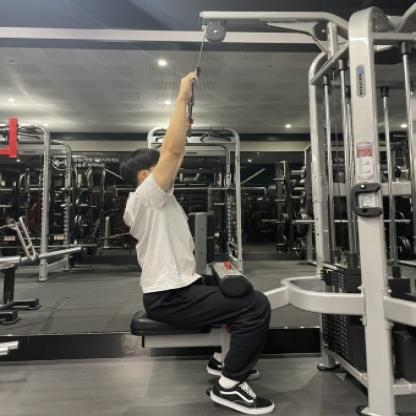Lat Pull Down: (108, 0, 416, 416)
